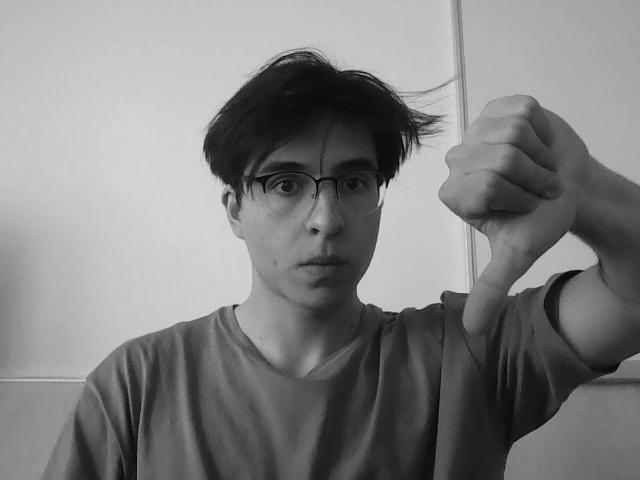bad: (458, 90, 564, 366)
